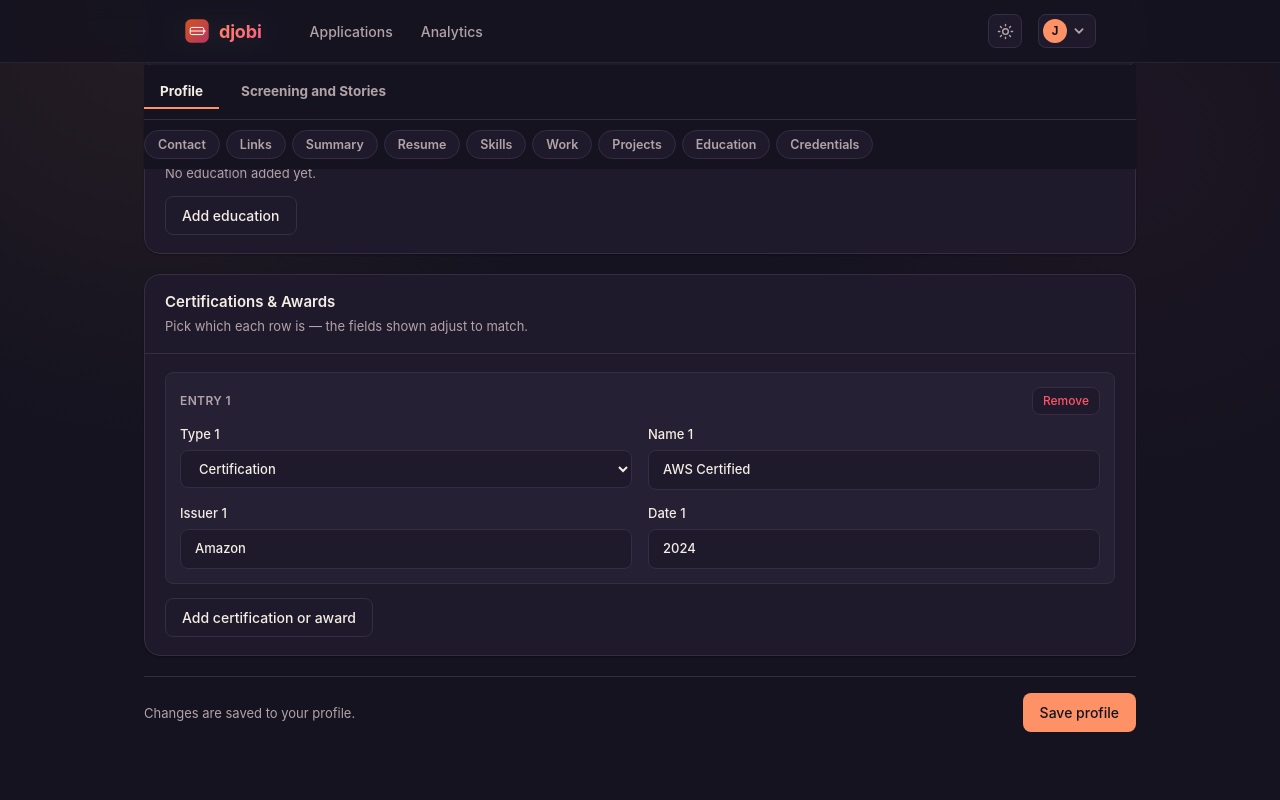
Scenario: account menu › removes a certification-or-award row
(page scrolled)
What coordinates should you click on to do the following:
click the button with aria-label "Remove certification or award 1"
I would click on:
 (1066, 400)
Its box is [1032,386,1100,414].
(page scrolled)
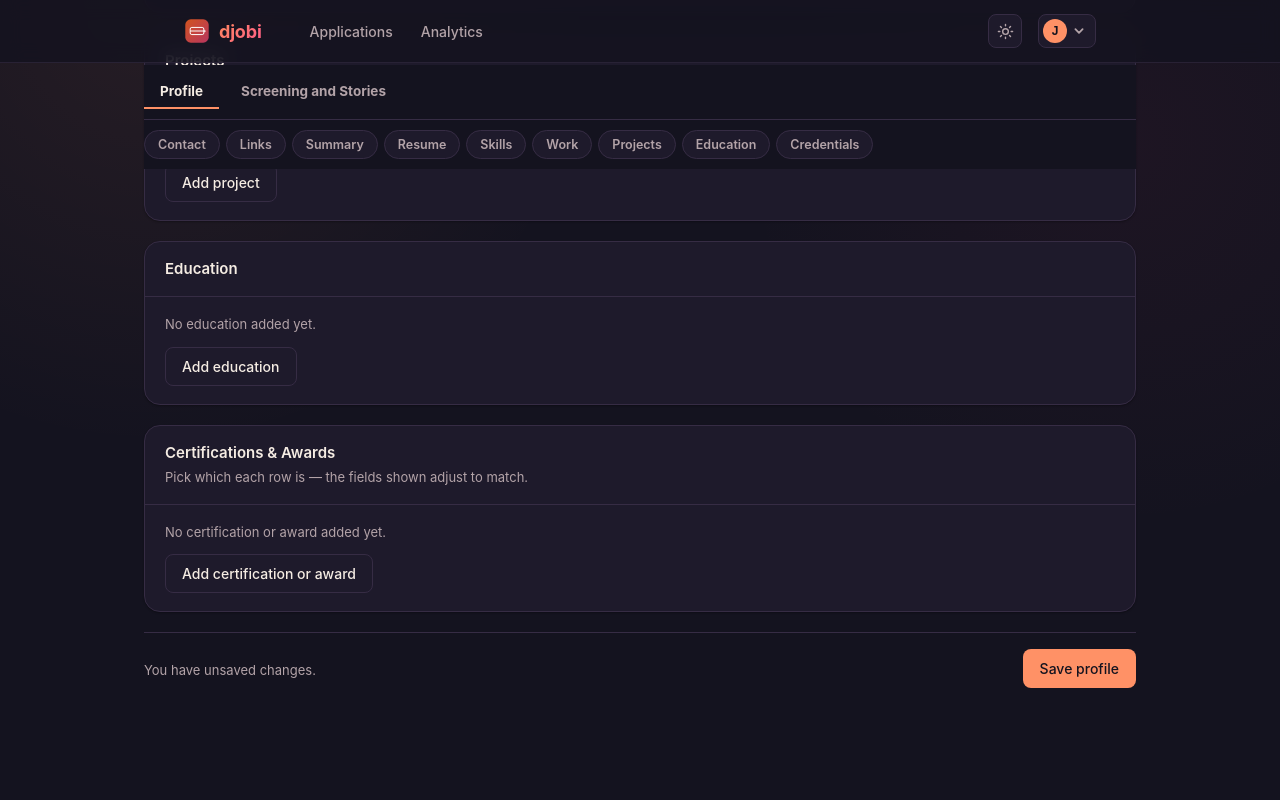
Now the label labelled "Name 1" is gone
